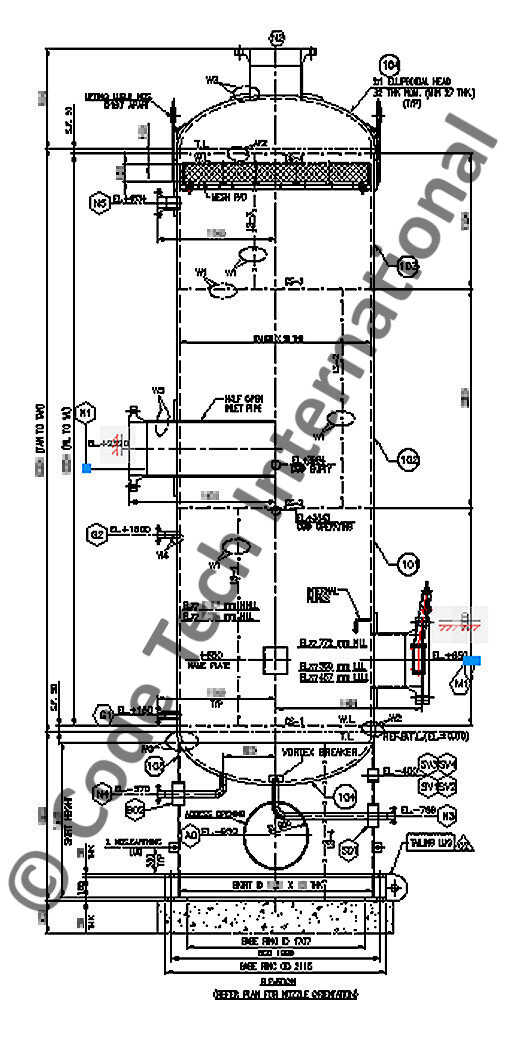nozzle: (87, 369, 220, 499), (213, 18, 344, 116), (341, 602, 439, 718)
